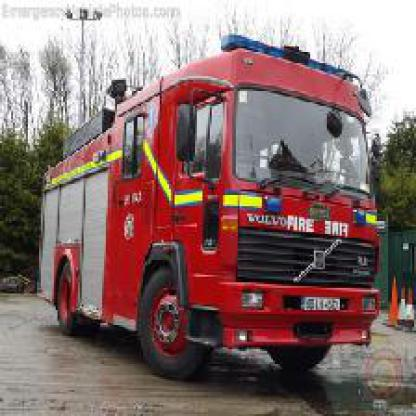emergency: (34, 32, 382, 386)
